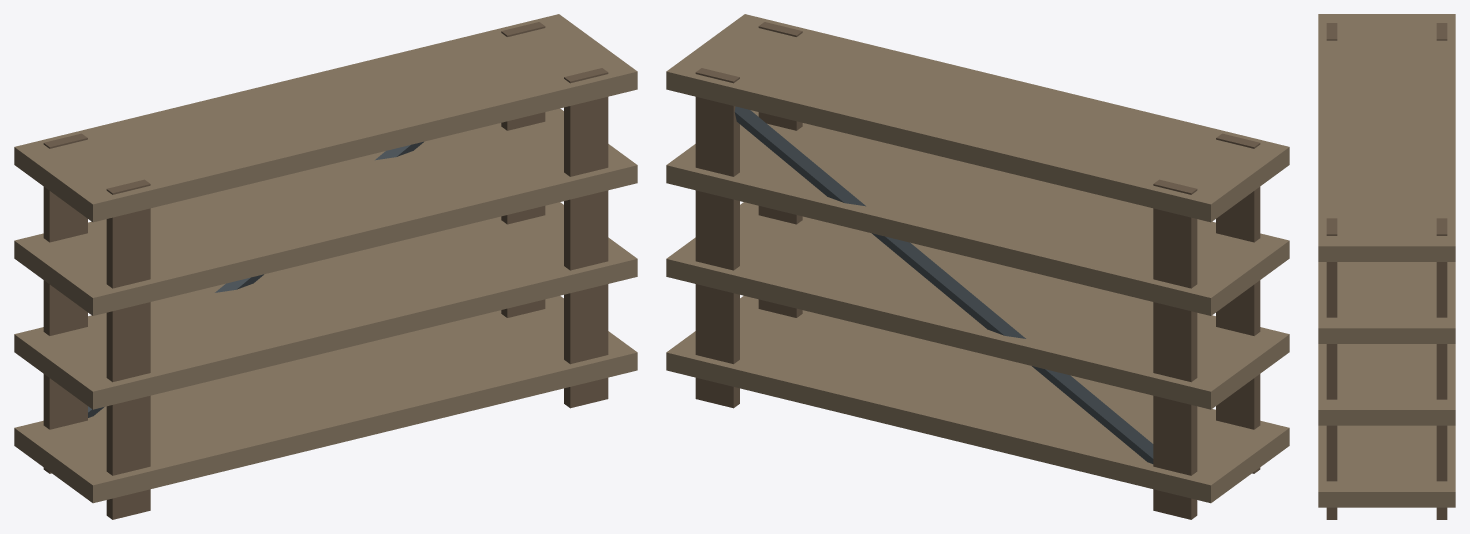
Rendered from high_rack.glb.
The picture shows the model from 3 angles, left to right: view 1: azimuth 30°, elevation 25°; view 2: azimuth 150°, elevation 25°; view 3: azimuth 270°, elevation 25°; orthographic projection. The views are drawn at different scales.
Visible parts, largest first — view 1: high_rack; view 2: high_rack; view 3: high_rack.
Boxes of the visible parts, x1=… form: high_rack: x1=14, y1=14, x2=637, y2=519; high_rack: x1=666, y1=14, x2=1289, y2=519; high_rack: x1=1318, y1=14, x2=1455, y2=519.
Size of the model in its own units: 3.84 by 2.2 by 0.96.
